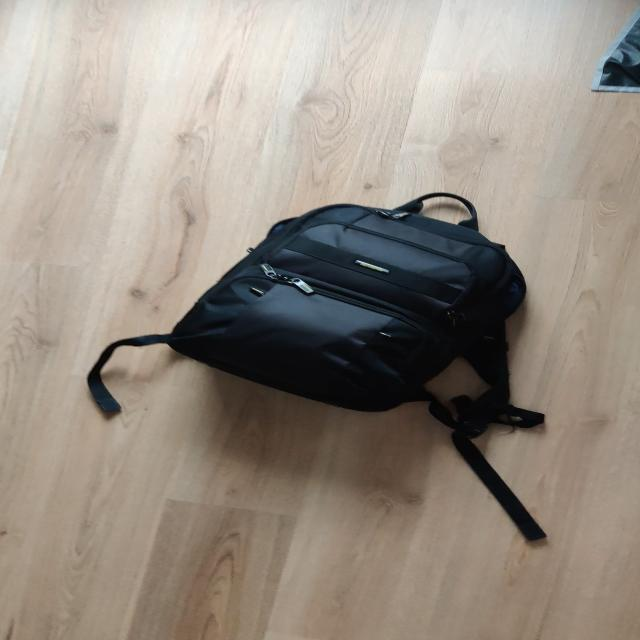backpack: (167, 188, 541, 429)
